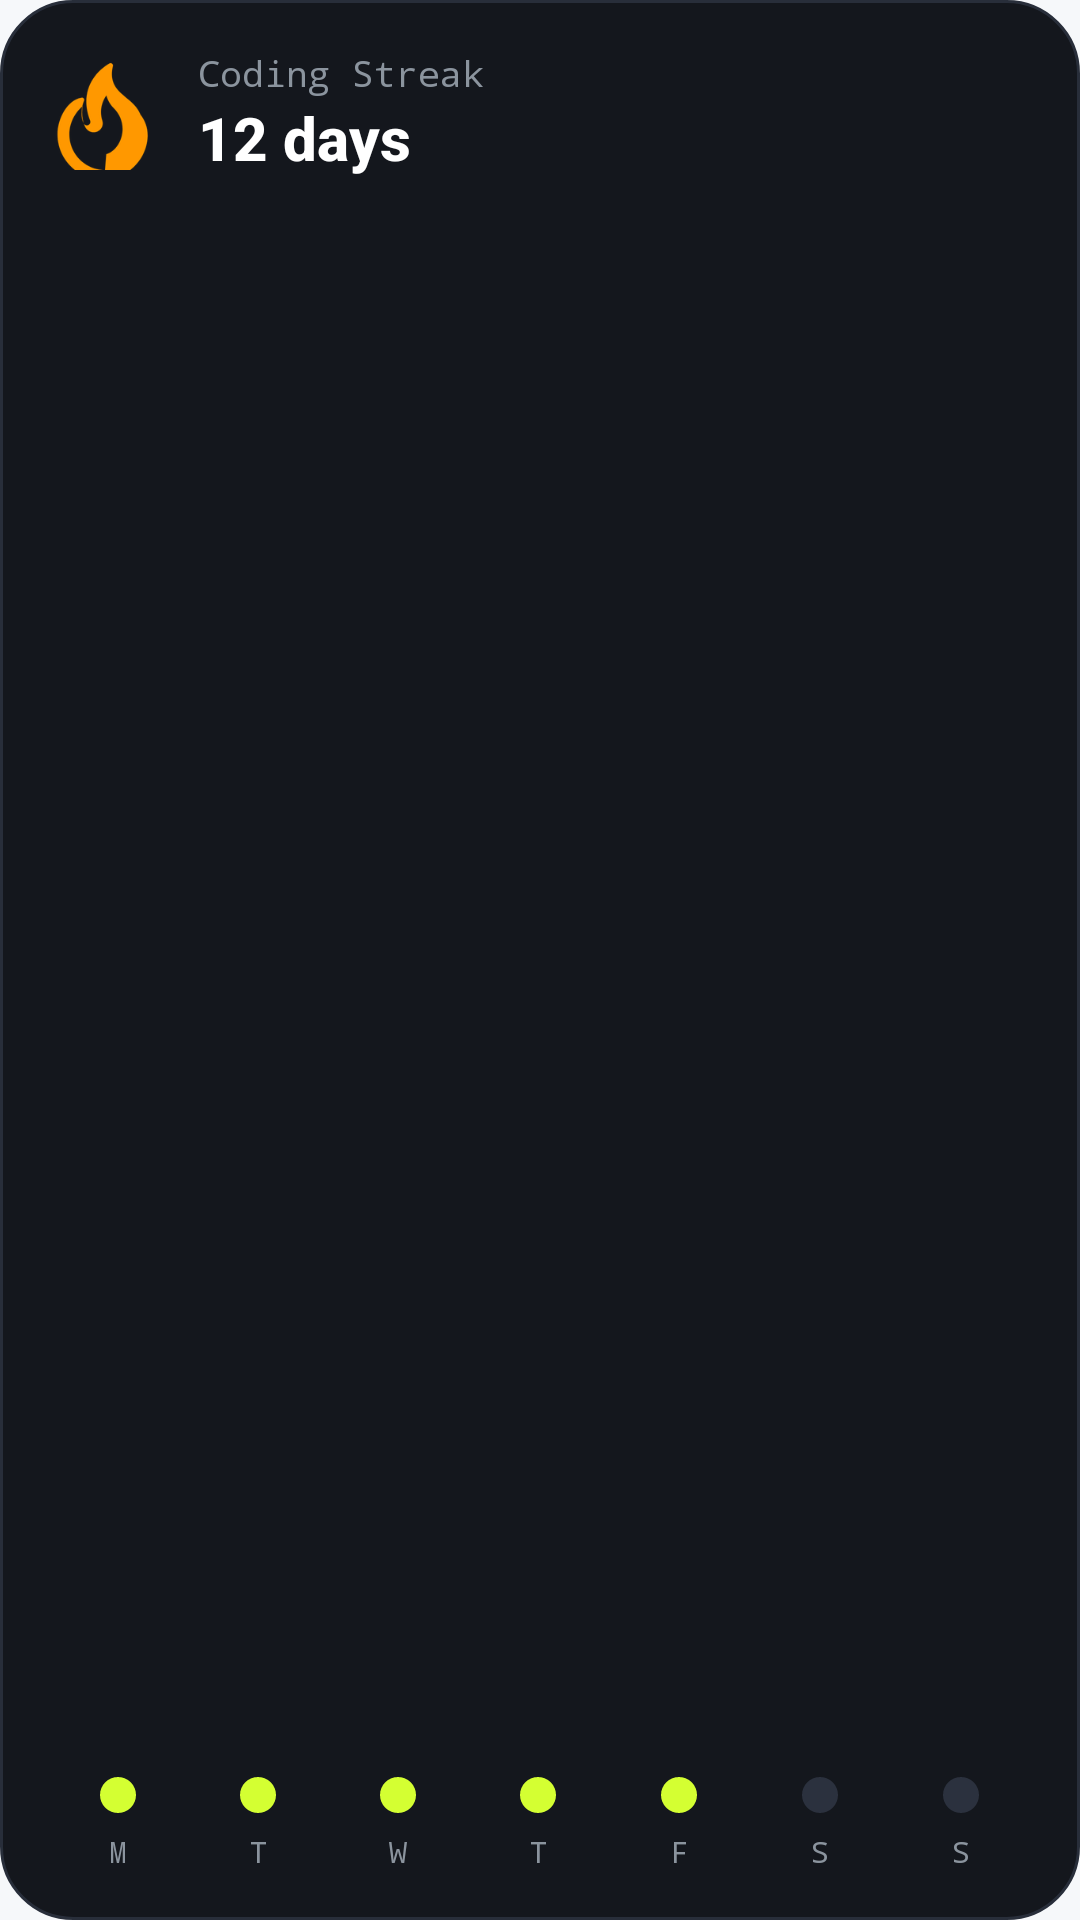

Icons on this 1080px x 1920px Android screen, each with the point to tap as point (x, y):
Streak Flame: point (102, 116)
